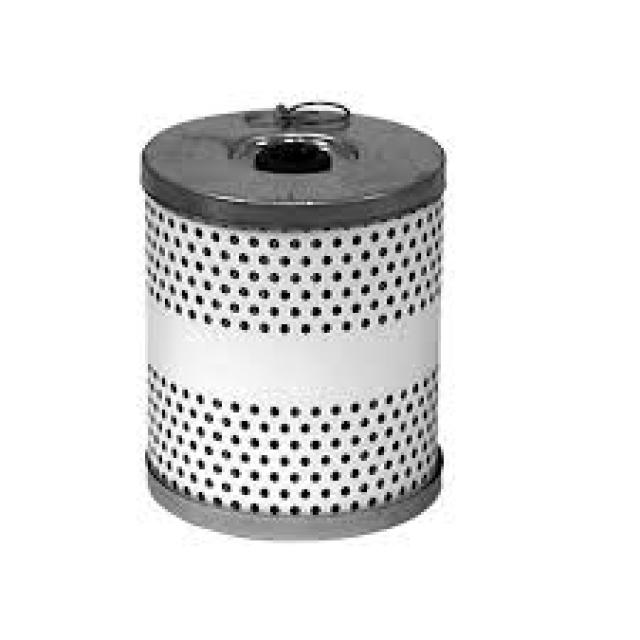oil_filter: (140, 96, 460, 546)
